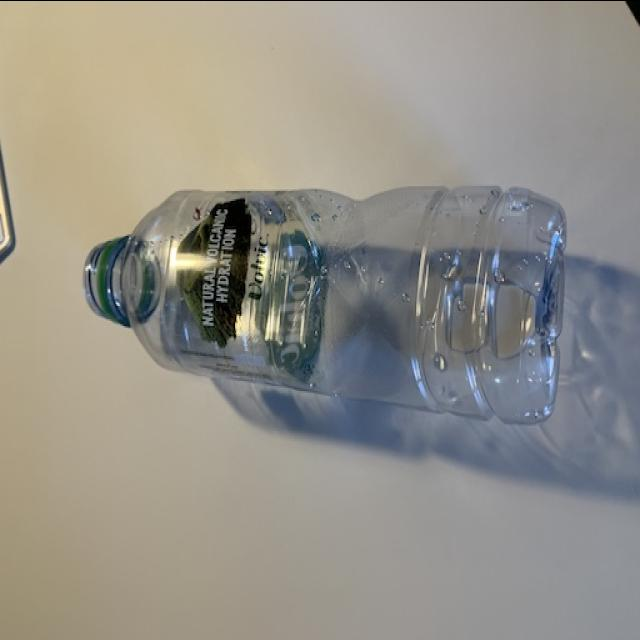PET: (82, 183, 568, 425)
